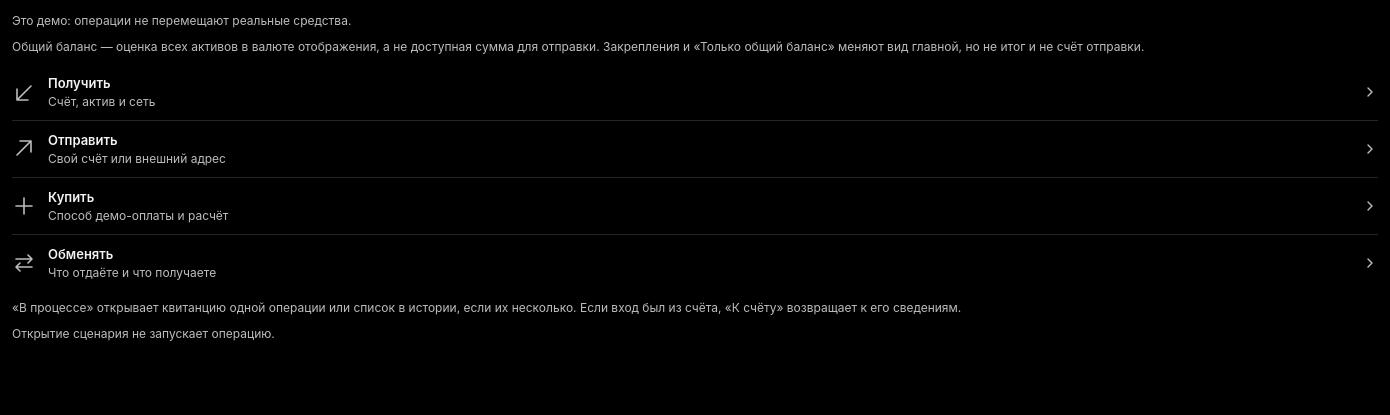
Scenario: ProductHelp controlled actions › keeps missing entry read-only with an explanation
What coordinates should you click on to do the following:
click the button "Отправить Свой счёт или внешний адрес"
I would click on:
 (83, 140)
Its box is top-left (12, 121), bottom-right (1378, 177).
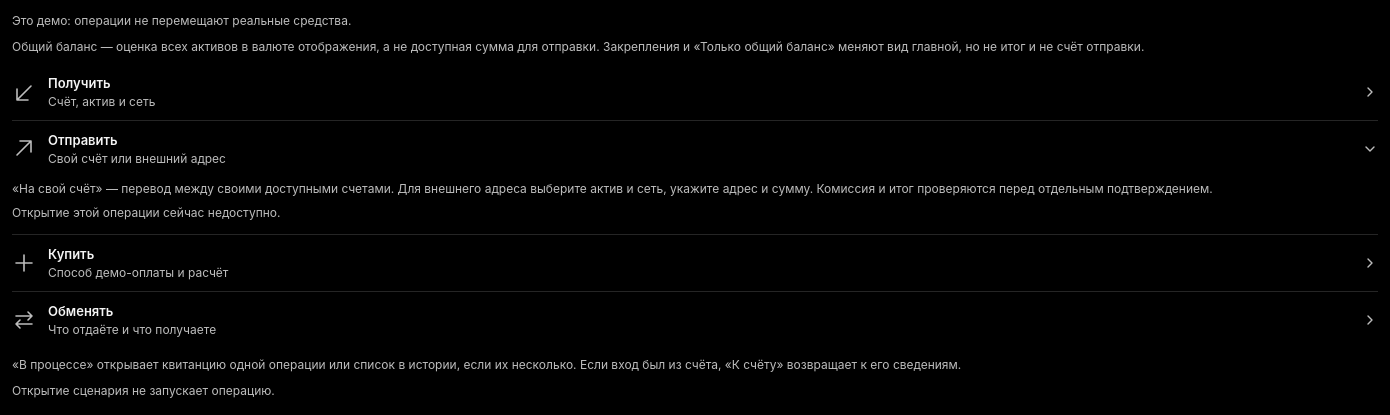
Now the text "Открытие этой операции сейчас недоступно." is shown, box top-left (12, 204), bottom-right (280, 222)
